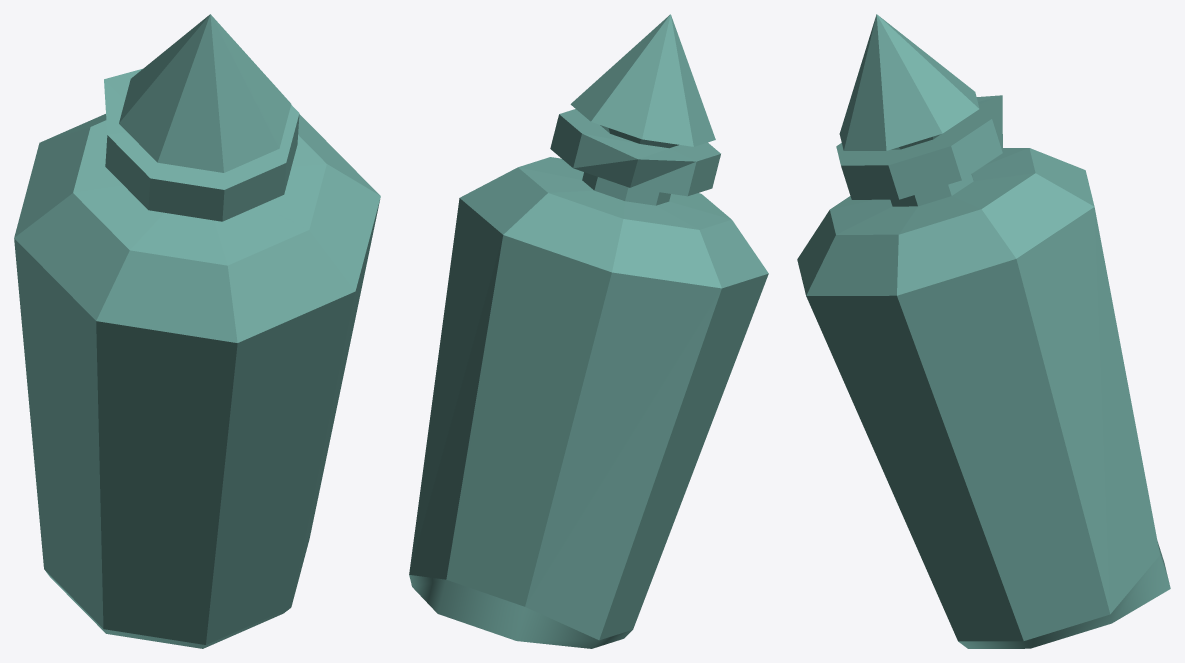
File: potion1.1.fbx
The picture shows the model from 3 angles, left to right: view 1: azimuth 30°, elevation 25°; view 2: azimuth 150°, elevation 25°; view 3: azimuth 270°, elevation 25°; orthographic projection. The views are drawn at different scales.
Parts seen in each view (by area): view 1: node_id5; view 2: node_id5; view 3: node_id5.
Part boxes in pixels (bbox=[...]): node_id5: bbox=[14, 14, 380, 648]; node_id5: bbox=[409, 14, 768, 648]; node_id5: bbox=[797, 14, 1170, 648].
Size of the model in its own units: 0.2203 by 0.4592 by 0.2625.
Materials: 1 (1 with a texture image).
